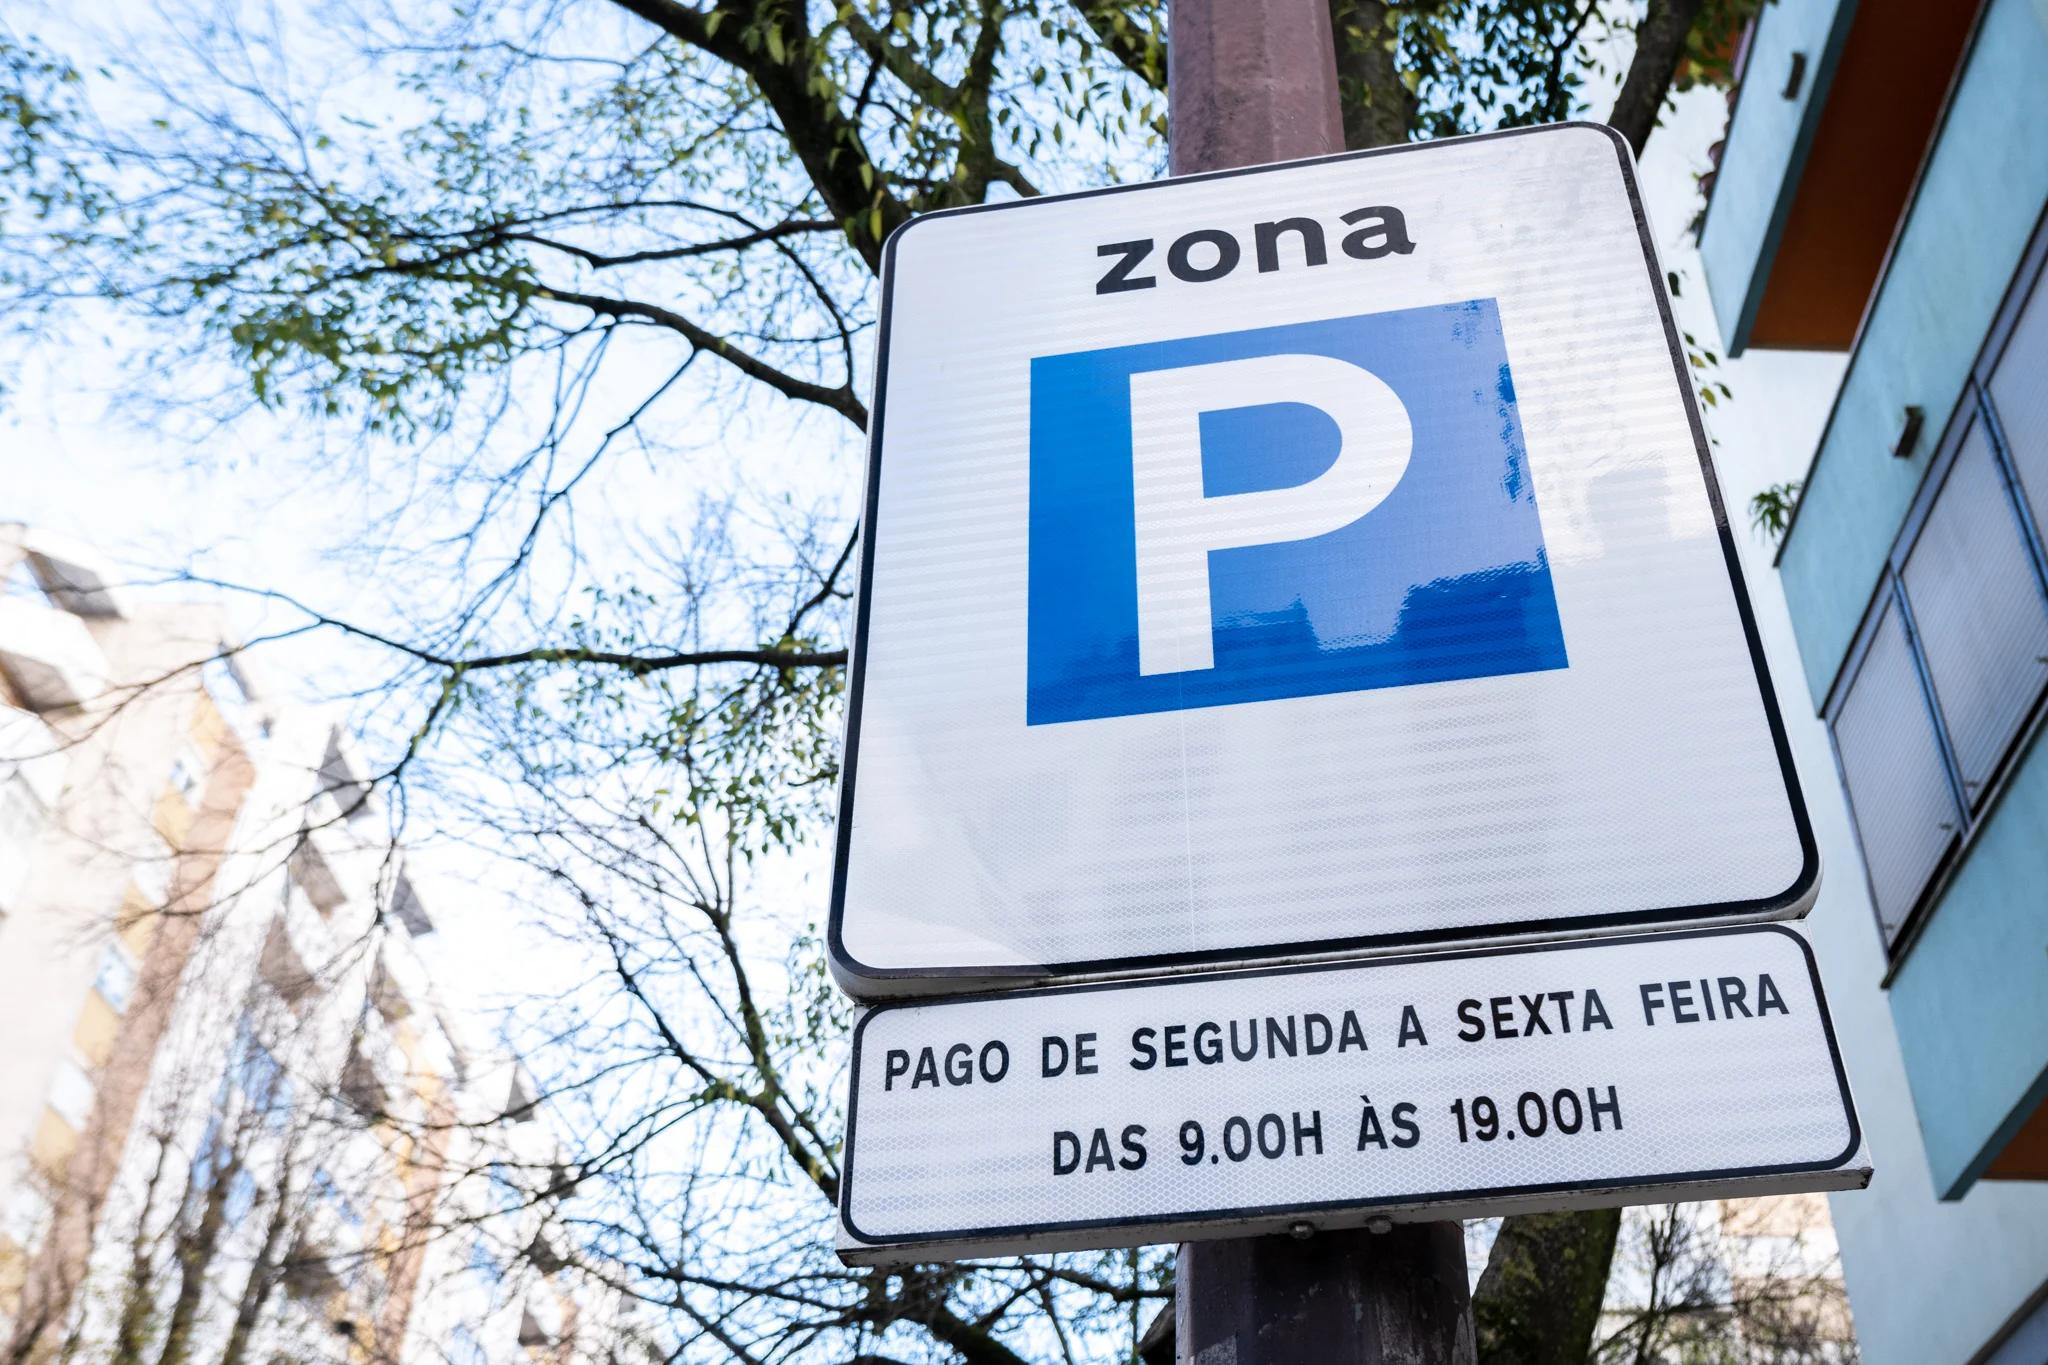zona de estacionamento autorizado: (801, 146, 1810, 925)
